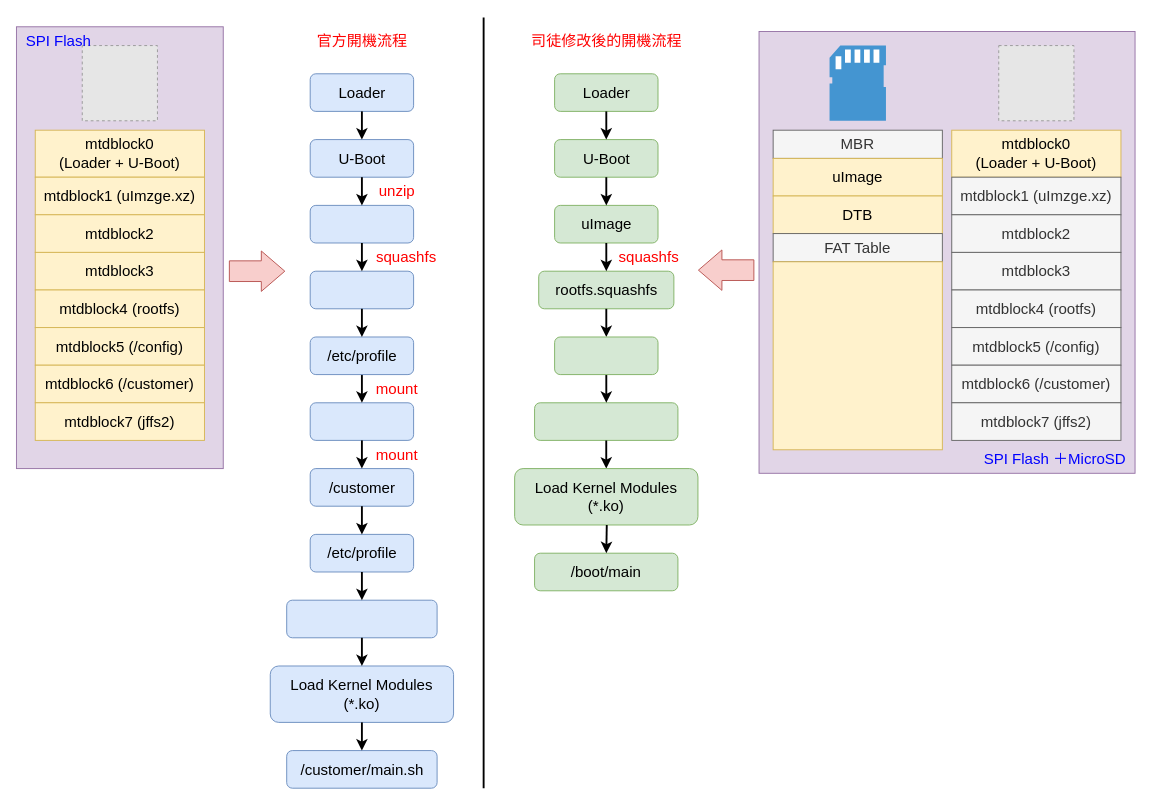
Image size: 1152x806. Some labels were removed from this diagram. Grey dashed boxes stand in for pictures. The shapes that lost their labels are listed below. From the top down, each one's centre as x and y in pixels, then its label:
[361,223]: uImage.xz
[361,289]: rootfs
[606,355]: /etc/inittab
[857,355]: rootfs.squashfs main
[361,421]: /config
[606,421]: /sbin/mmf
[361,618]: /customer/demo.sh
